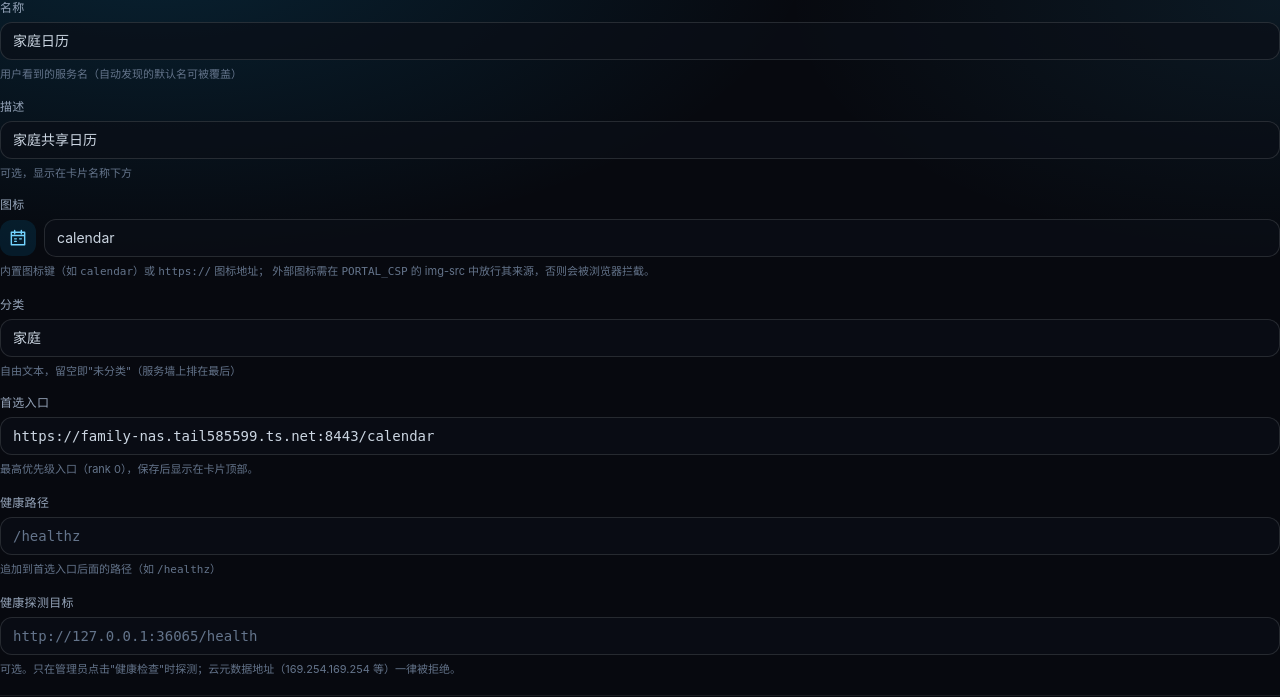
Test: ServiceForm · 提交契约 › 后端 400 的 fieldErrors 显示在对应输入上（aria-invalid + aria-describedby + role="alert"）
Type "https://example.ts.net/app" into the field labelled "首选入口".
click(640, 436); type("https://example.ts.net/app")  # box [0,417,1279,455]
(page scrolled)
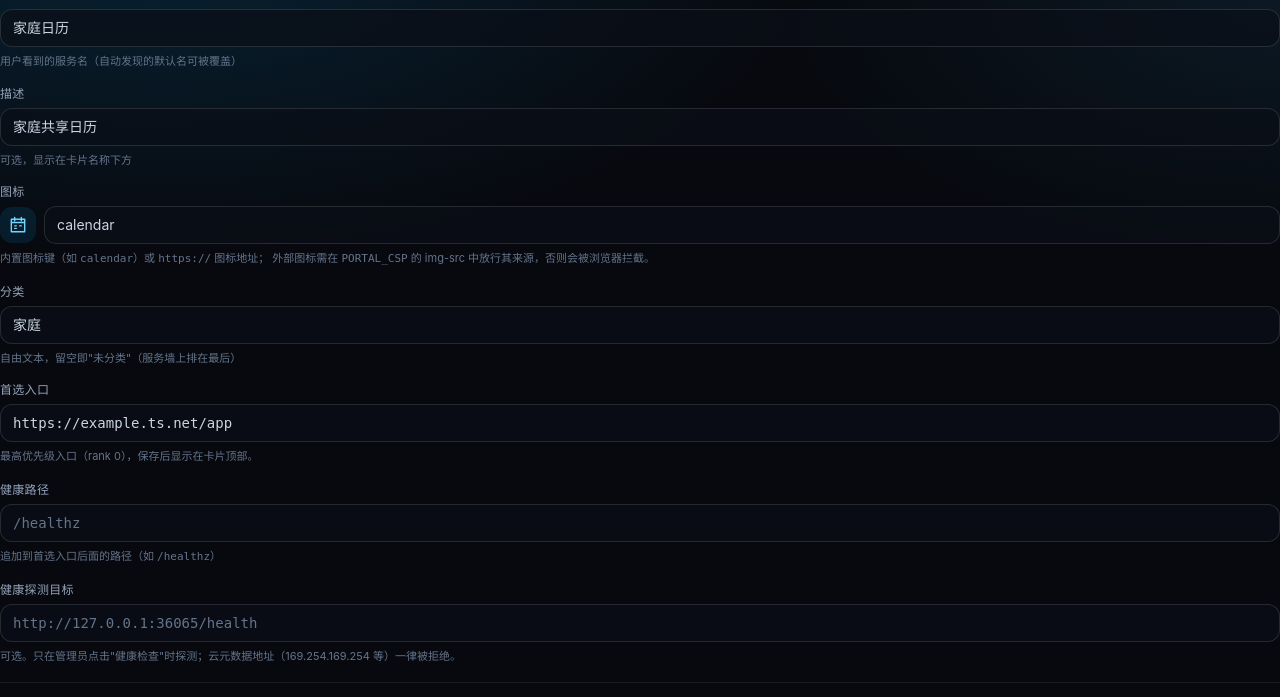
Submit the form named "保存"
(page scrolled)
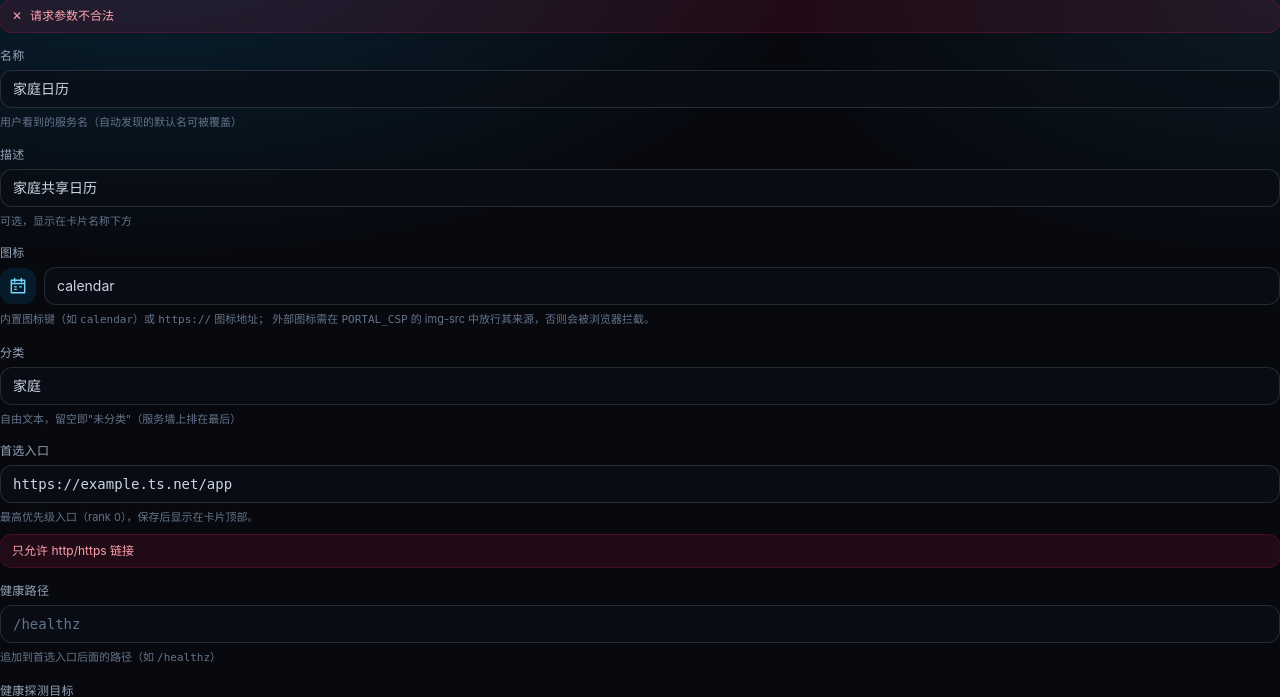
Expected: the text "请求参数不合法" is shown, [30,8,114,24]
